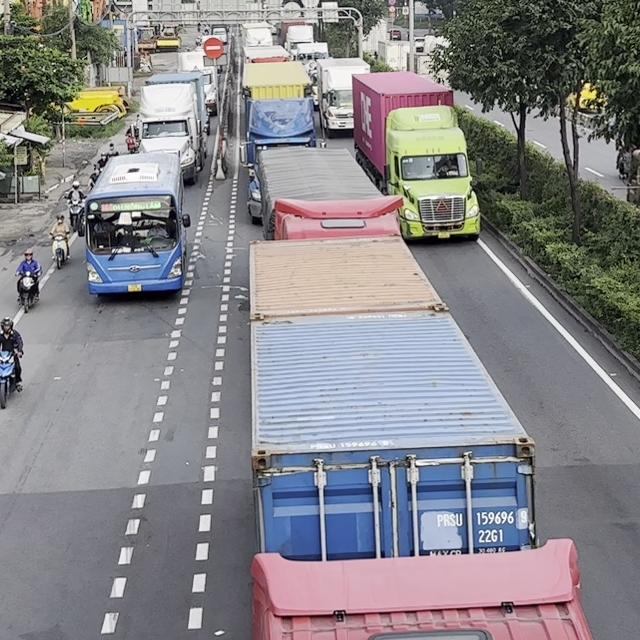bus: (81, 150, 190, 296)
motorcycle: (0, 348, 22, 409), (15, 268, 41, 313), (48, 230, 70, 269), (65, 194, 84, 228), (74, 206, 86, 236), (88, 164, 101, 189), (125, 134, 139, 153)
truck: (247, 235, 595, 639), (351, 70, 481, 242), (246, 145, 404, 240), (129, 71, 209, 184), (240, 60, 319, 166), (314, 56, 371, 138), (177, 50, 218, 115)
